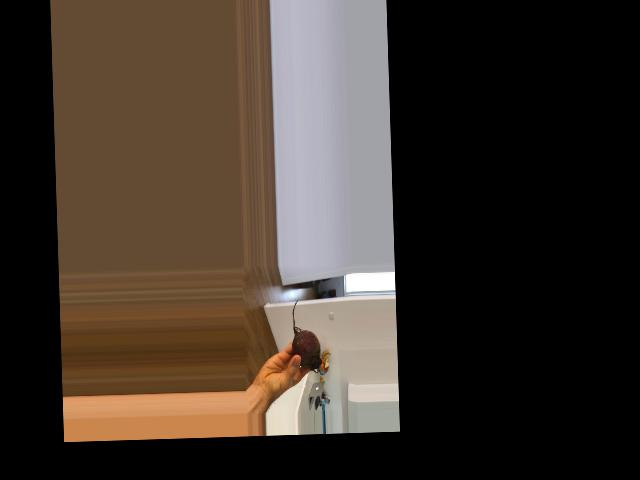beet: (290, 298, 321, 373)
